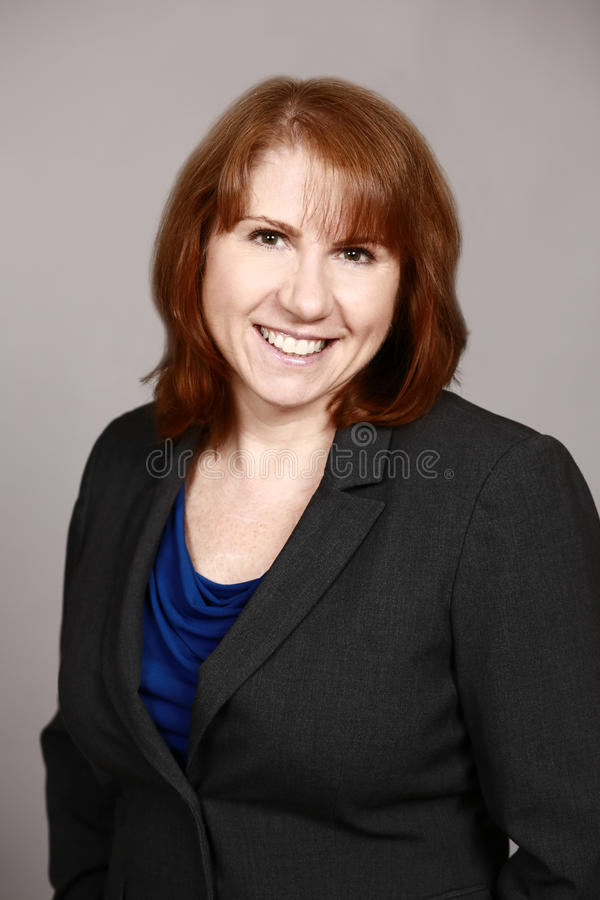woman: (154, 77, 466, 407)
